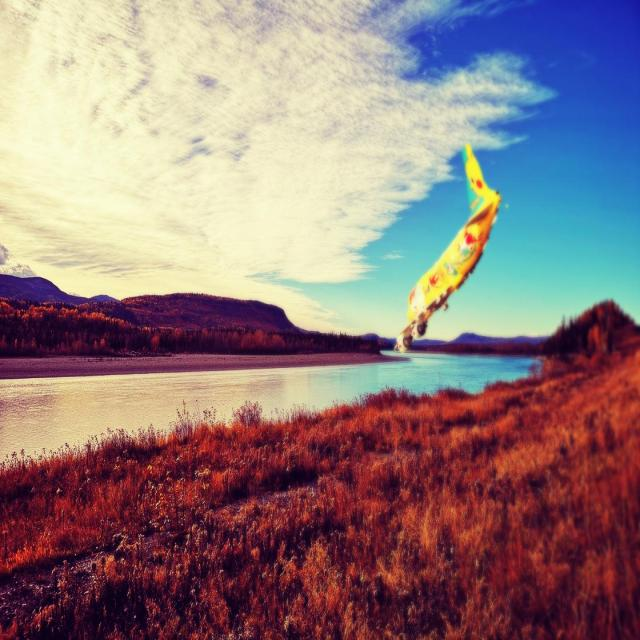airplane: (393, 142, 501, 352)
